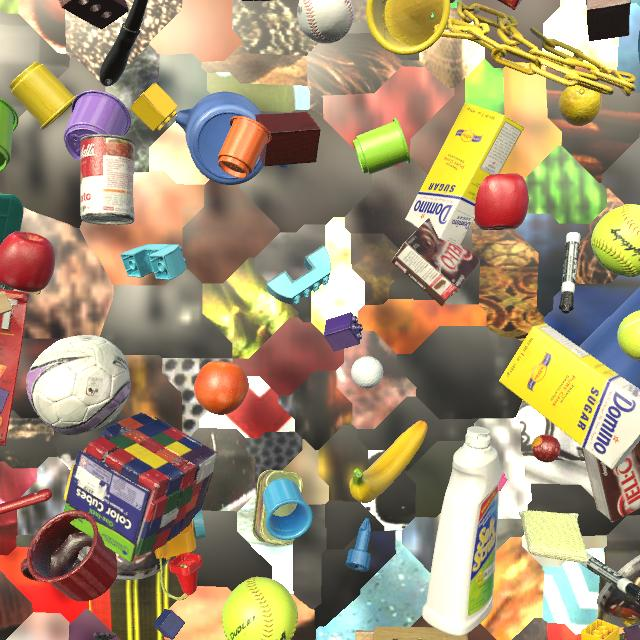ycb_003_cracker_box: (0, 288, 31, 446), (498, 0, 522, 10)
ycb_004_sugar_box: (499, 323, 640, 470), (405, 103, 524, 246)
ycb_005_tomato_soup_can: (80, 134, 136, 225)
ycb_006_mustard_bottle: (450, 0, 455, 3)
ycb_008_pudding_box: (391, 218, 480, 306), (582, 441, 640, 523)
ycb_010_potted_meat_can: (252, 470, 303, 545)
ycb_011_banana: (349, 420, 428, 503)
ycb_013_apple: (0, 231, 55, 292), (474, 173, 529, 230)
ycb_014_lemon: (559, 85, 602, 126)
ycb_017_orange: (194, 361, 249, 415)
